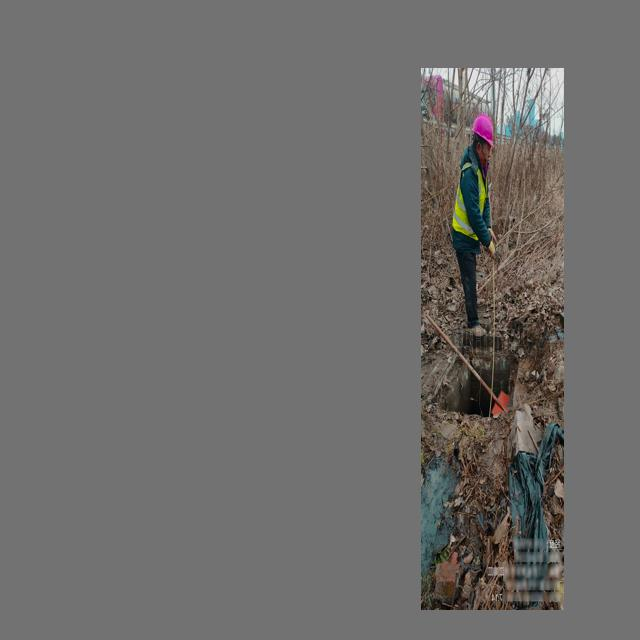lose: (431, 352, 522, 422)
